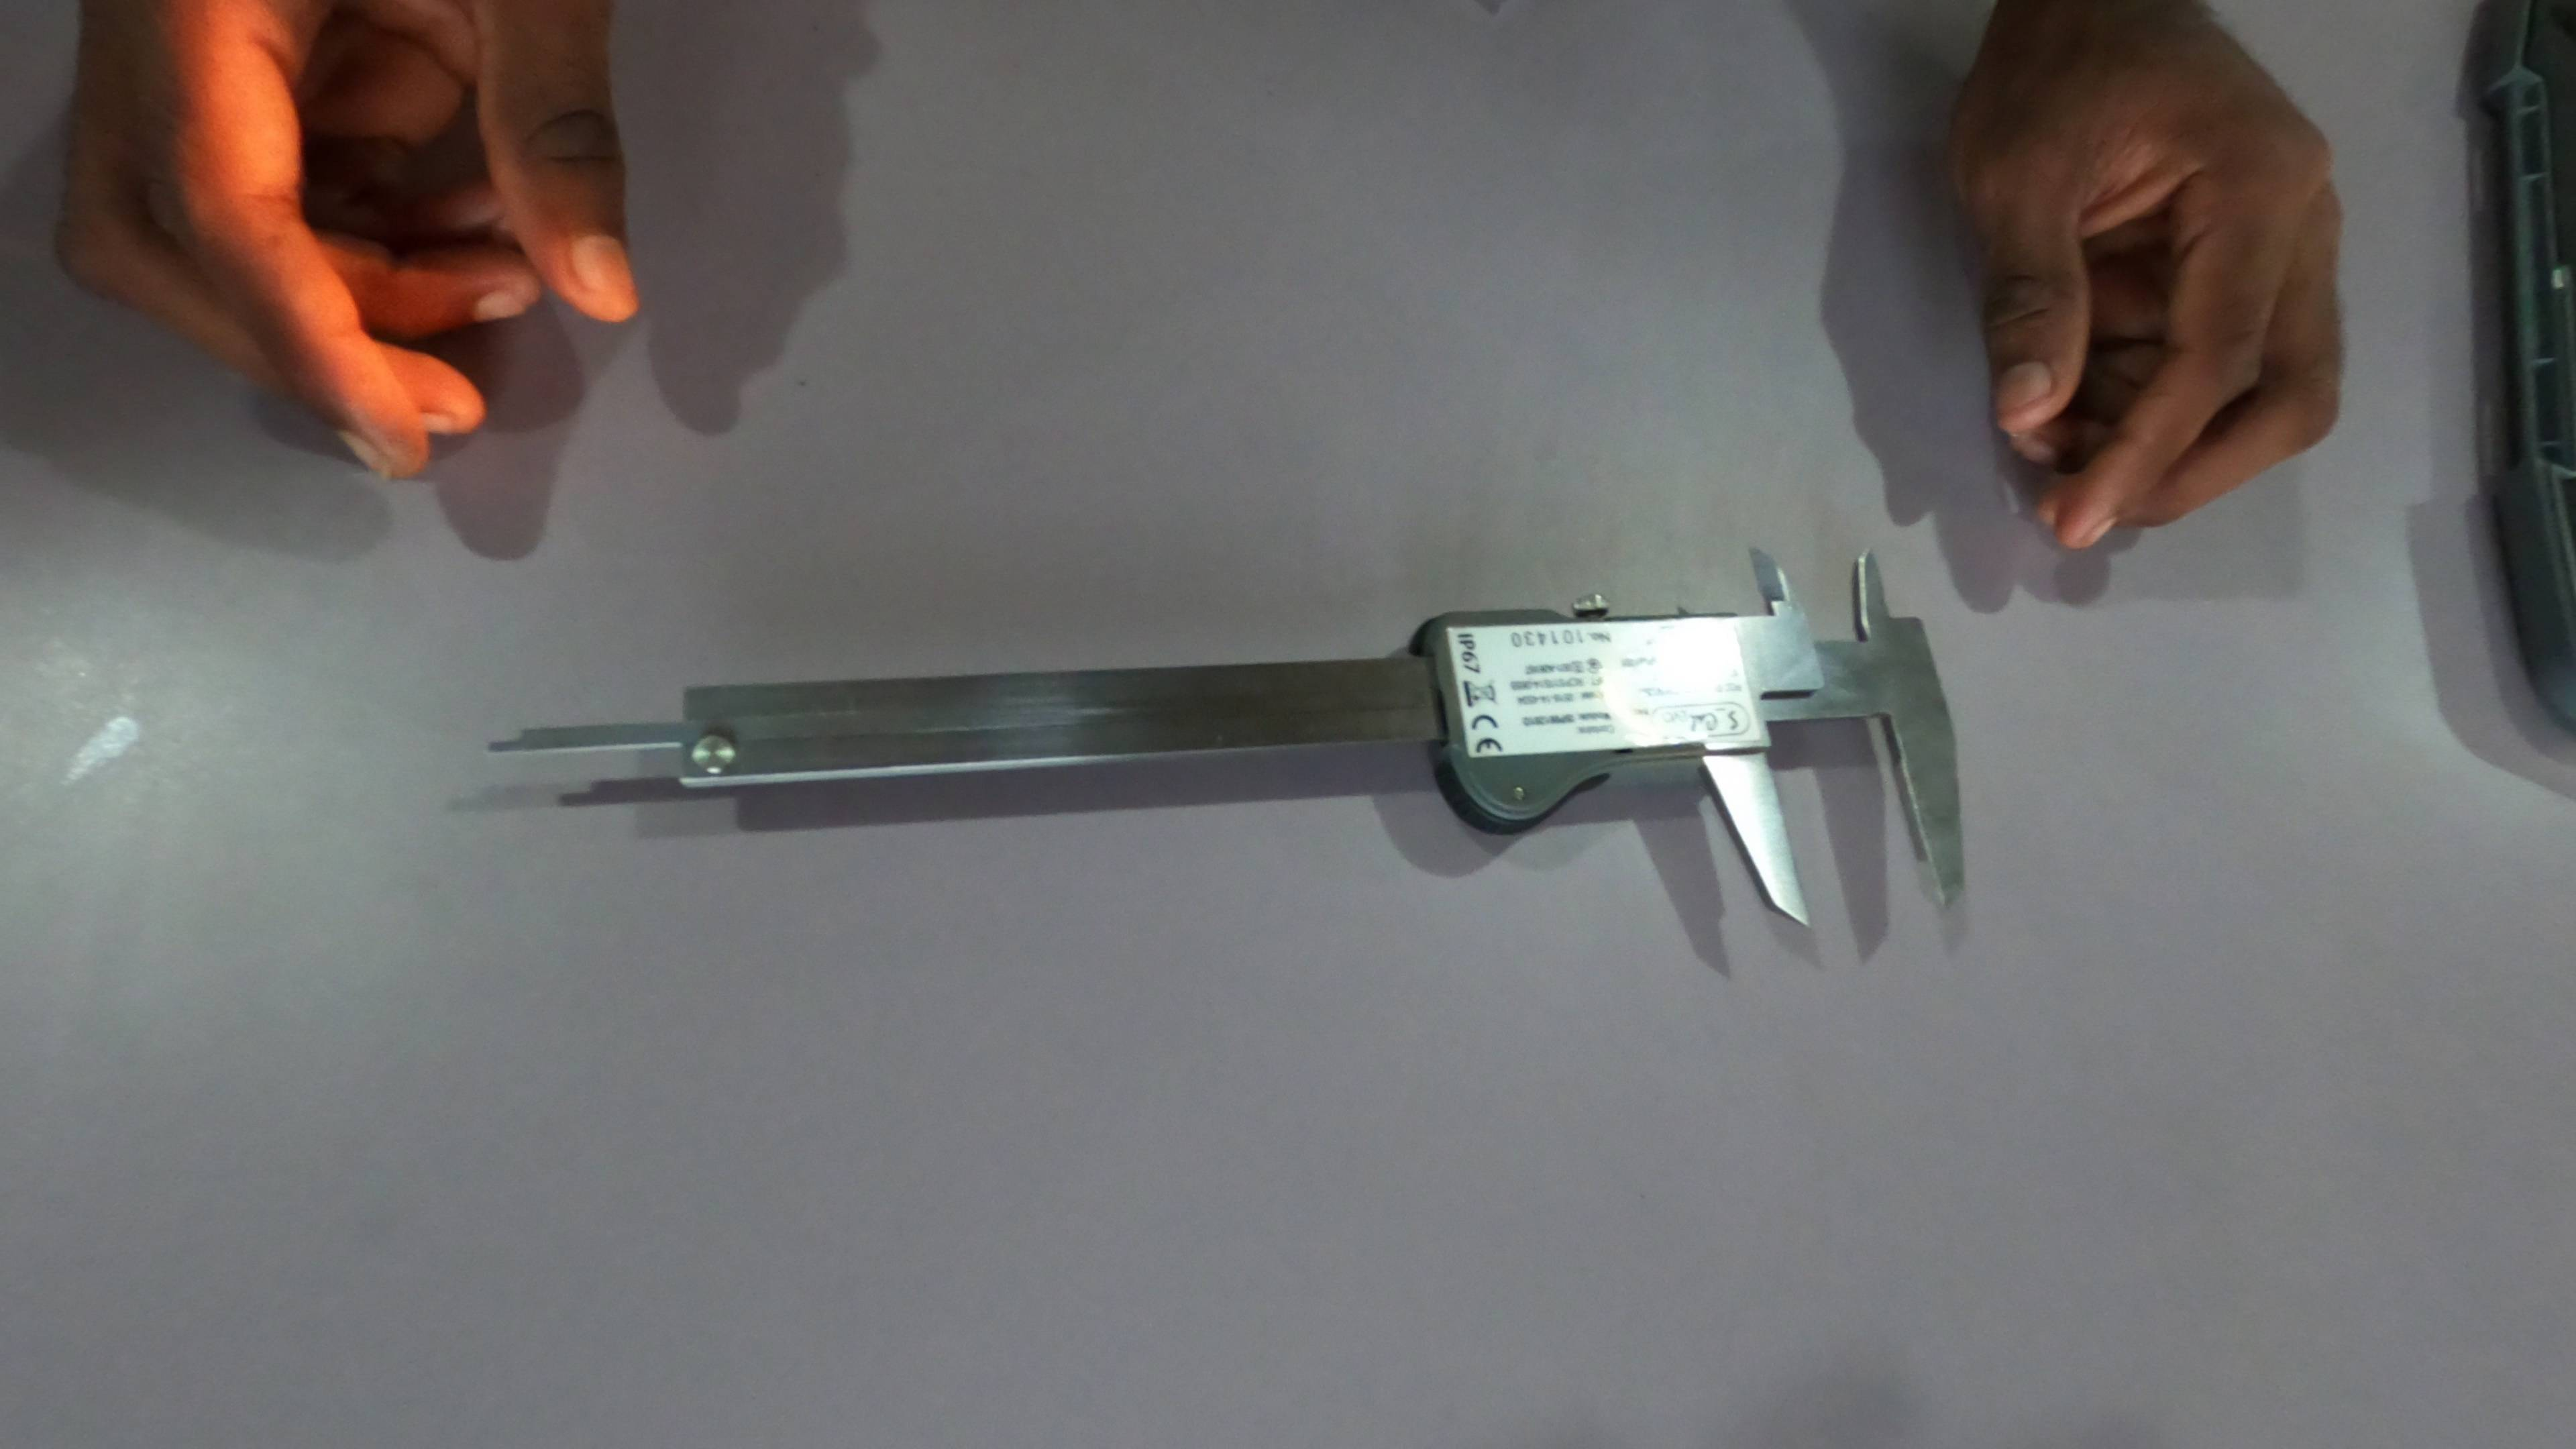vernier_caliper: (469, 541, 1971, 918)
